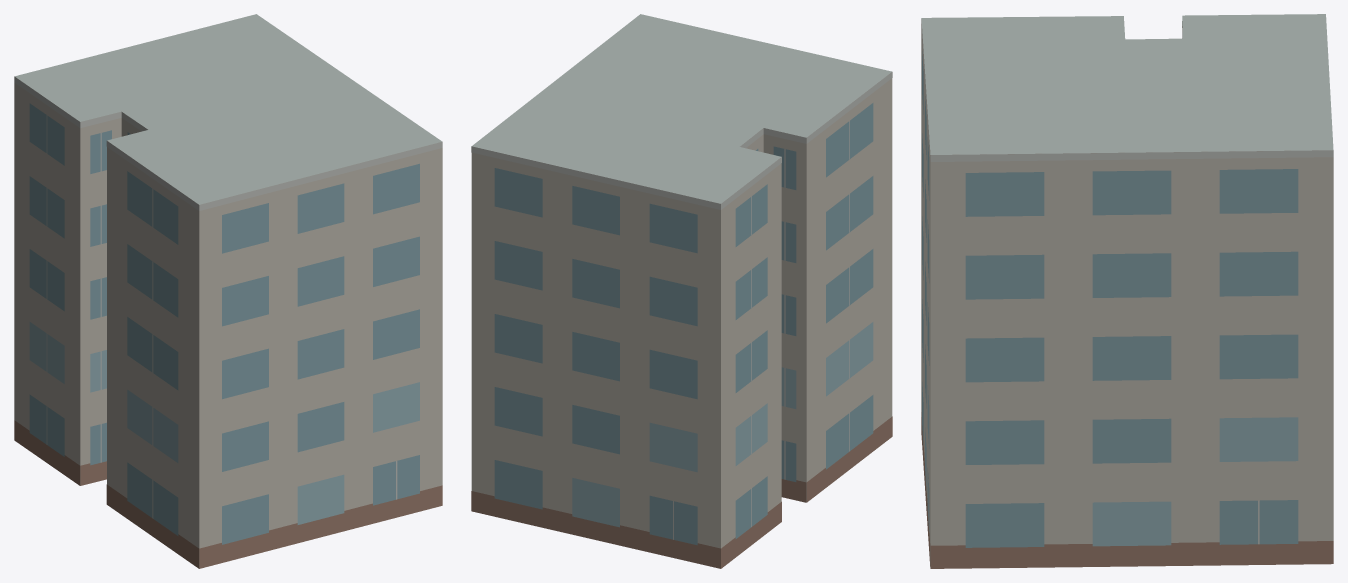
The model's file is survey-upis-32656697.glb.
The picture shows the model from 3 angles, left to right: view 1: azimuth 30°, elevation 25°; view 2: azimuth 150°, elevation 25°; view 3: azimuth 270°, elevation 25°; orthographic projection. The views are drawn at different scales.
Visible parts, largest first — view 1: survey-upis-32656697.tmp; view 2: survey-upis-32656697.tmp; view 3: survey-upis-32656697.tmp.
Part boxes in pixels (x1,y1,x2,y2): survey-upis-32656697.tmp: [14, 14, 442, 568]; survey-upis-32656697.tmp: [471, 14, 892, 568]; survey-upis-32656697.tmp: [921, 14, 1333, 568].
Bounding box in the file's own units: 10.46 × 14.3 × 12.92.
